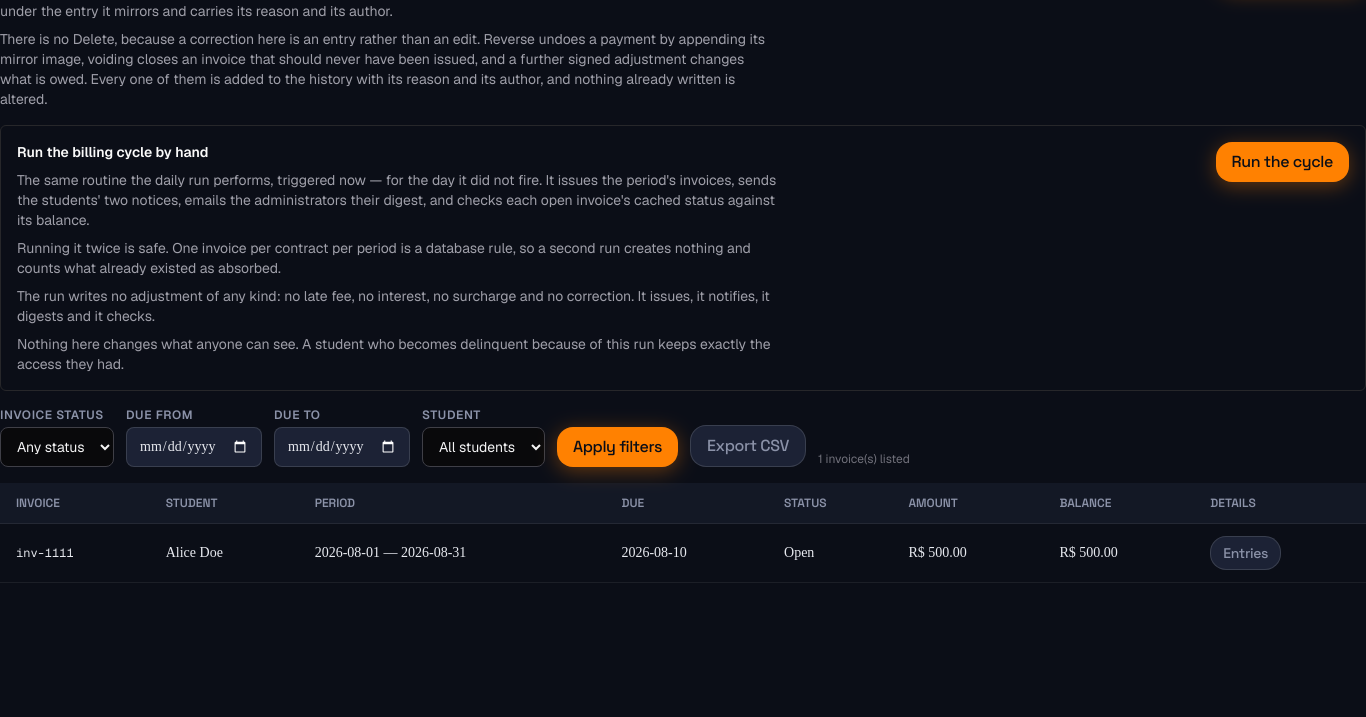
Test: LedgerTab › marks an already reversed payment instead of offering to reverse it twice
Step 1. Click the button "Entries" → {"x": 1246, "y": 553}, box [1210,536,1281,570]
(page scrolled)
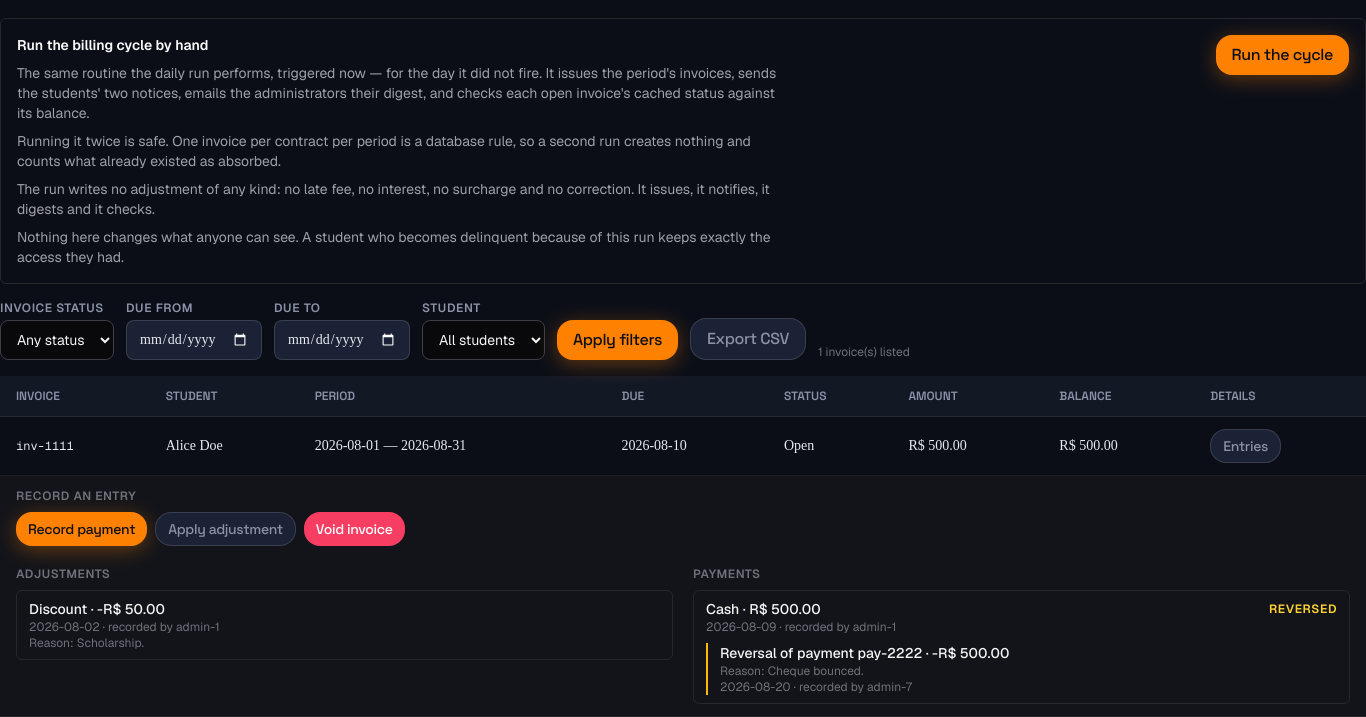
Expected: the heading "Payments" is shown, [693,566,761,582]
Expected: the text "Reversed" is shown, [1269,601,1337,617]
